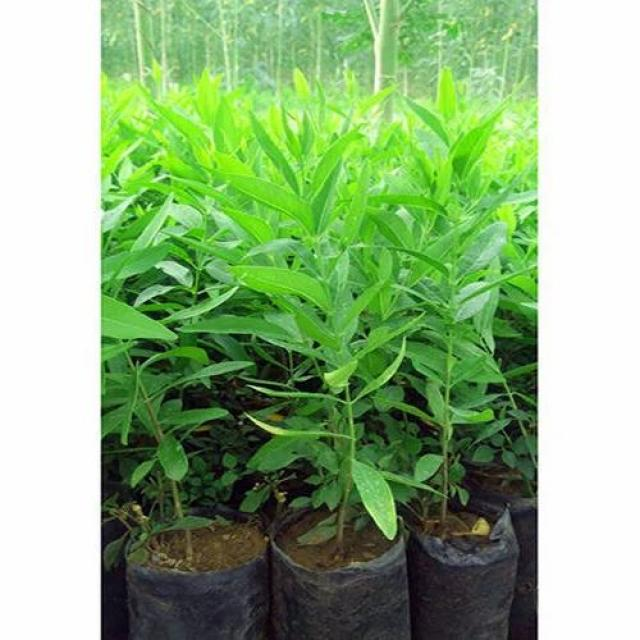Medicinal-Sandalwood: (102, 34, 534, 558)
